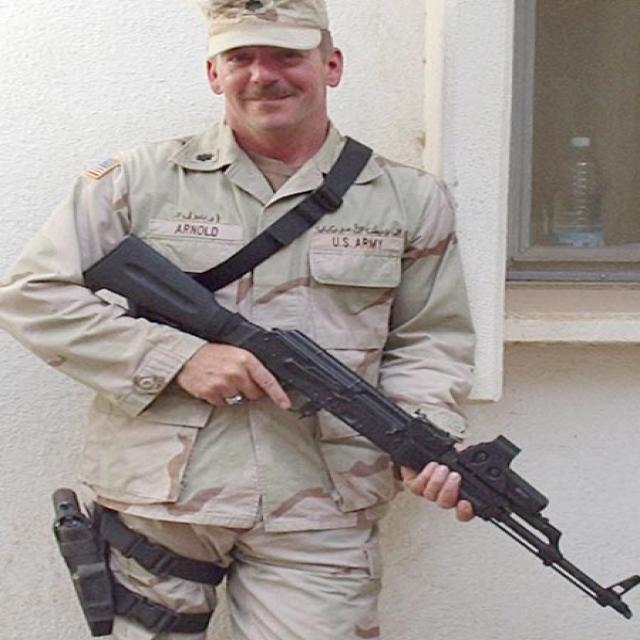gun-knife-thesis - v11 Yolov5 augmented: (81, 233, 634, 620), (36, 483, 120, 638)
